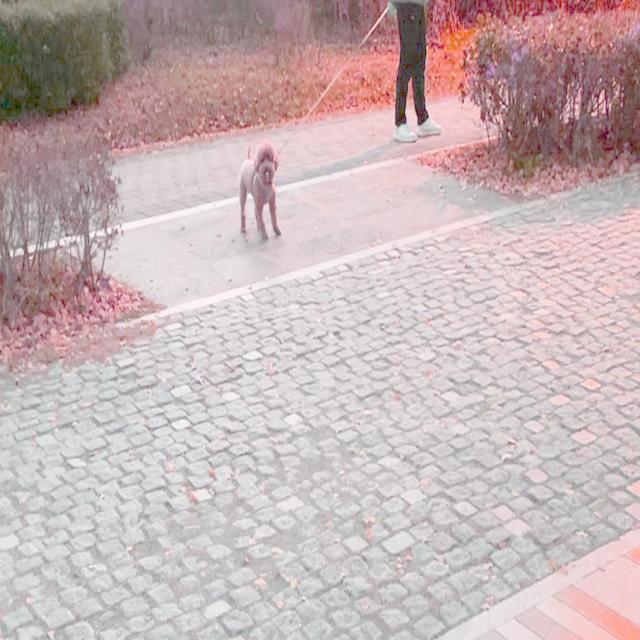Leashed_Dog: (238, 0, 442, 241)
